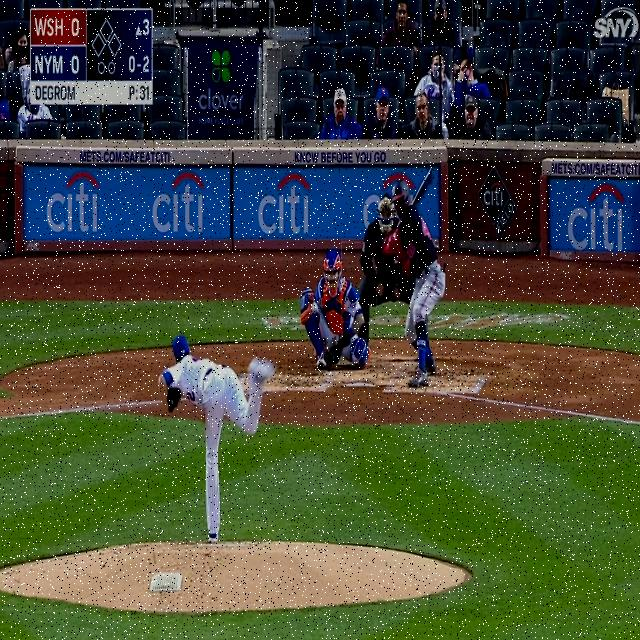baseball: (312, 303, 317, 313)
